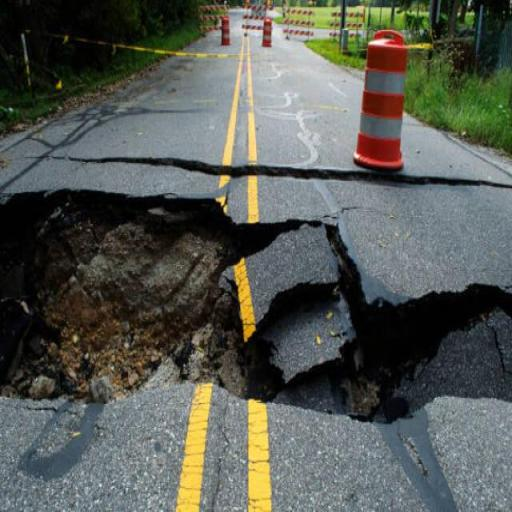Concentric_Crack: (0, 190, 512, 422)
